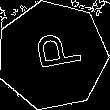P_W: (24, 32, 82, 78)
